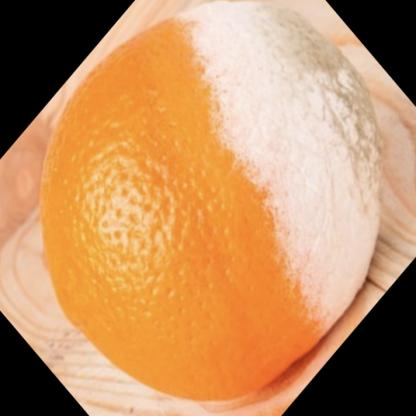rotten: (42, 14, 385, 396)
